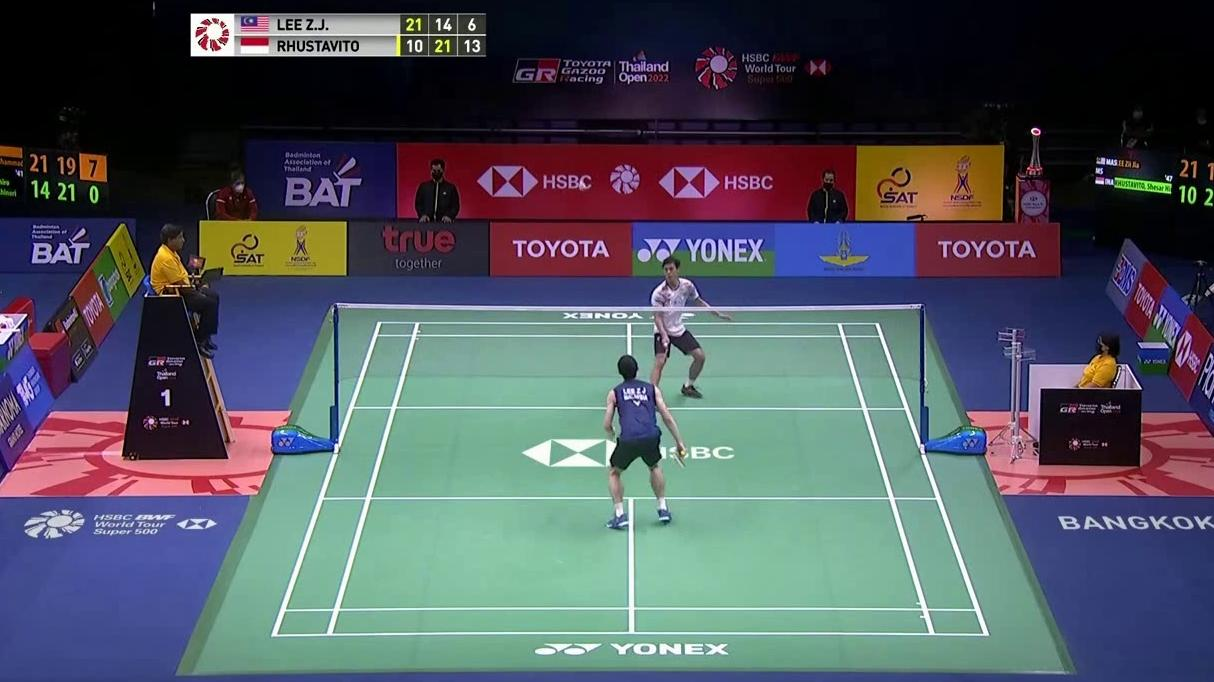racket: (671, 443, 690, 473), (662, 339, 682, 365)
shuttle: (578, 178, 588, 191)
